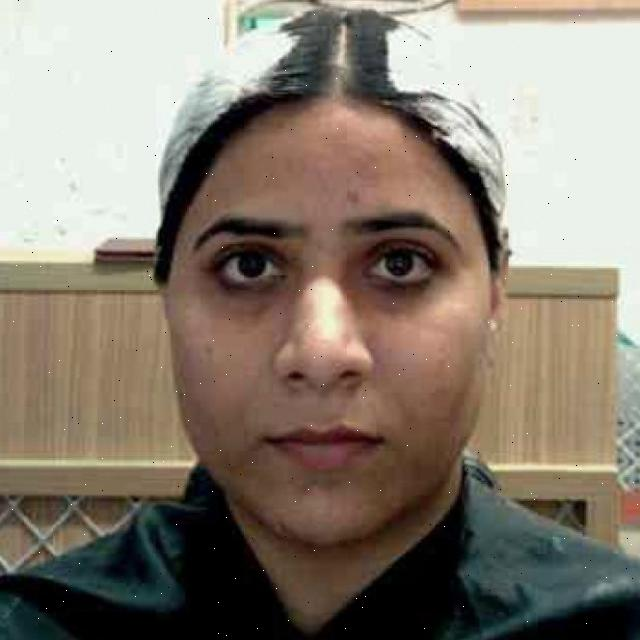puffy_eyes: (345, 257, 437, 309), (202, 280, 290, 318)
